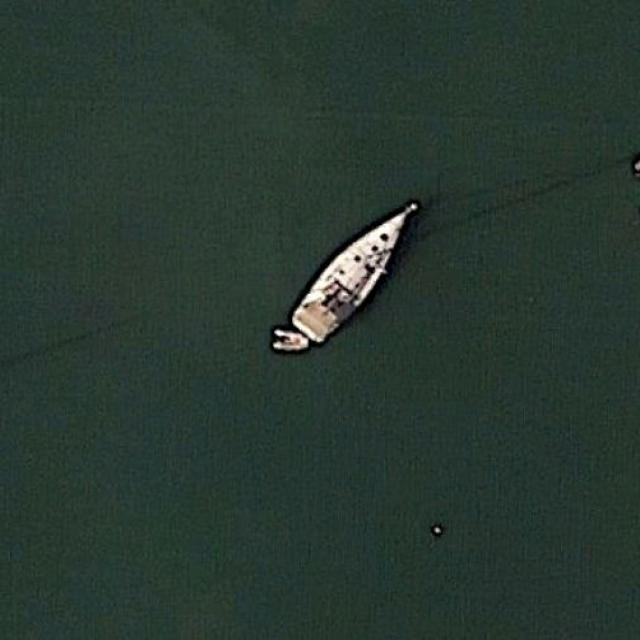ship: (274, 195, 422, 355)
